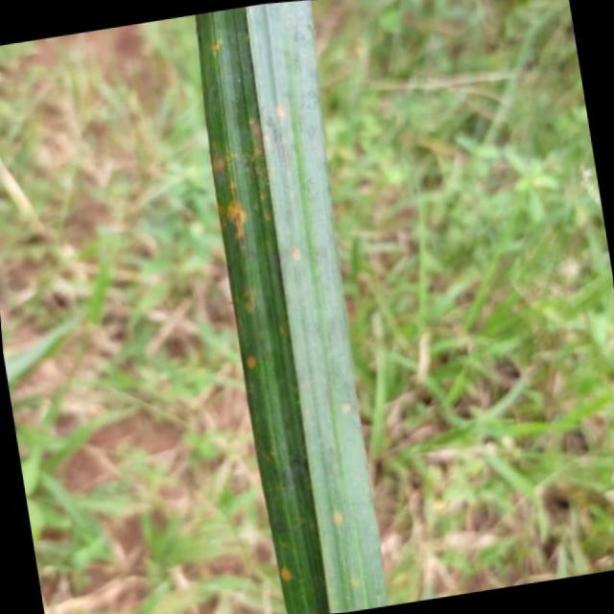Kalium: (194, 0, 393, 614)
